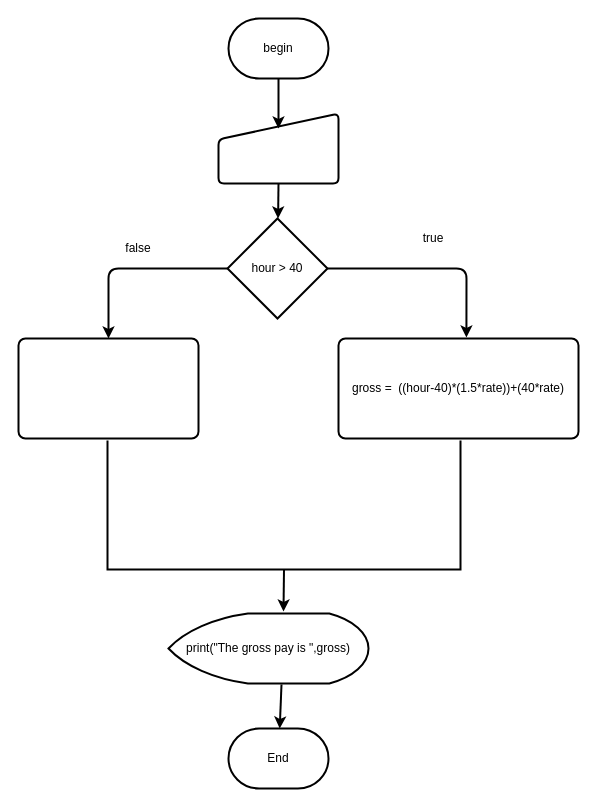
Some shapes in this 596 by 806 pixel diagram are drawn without their labels. The centre of each missing label's shape, as x and y in pixels:
"gross = hour * rate" belongs at pixel 108 388.
"hour rate" belongs at pixel 278 148.
